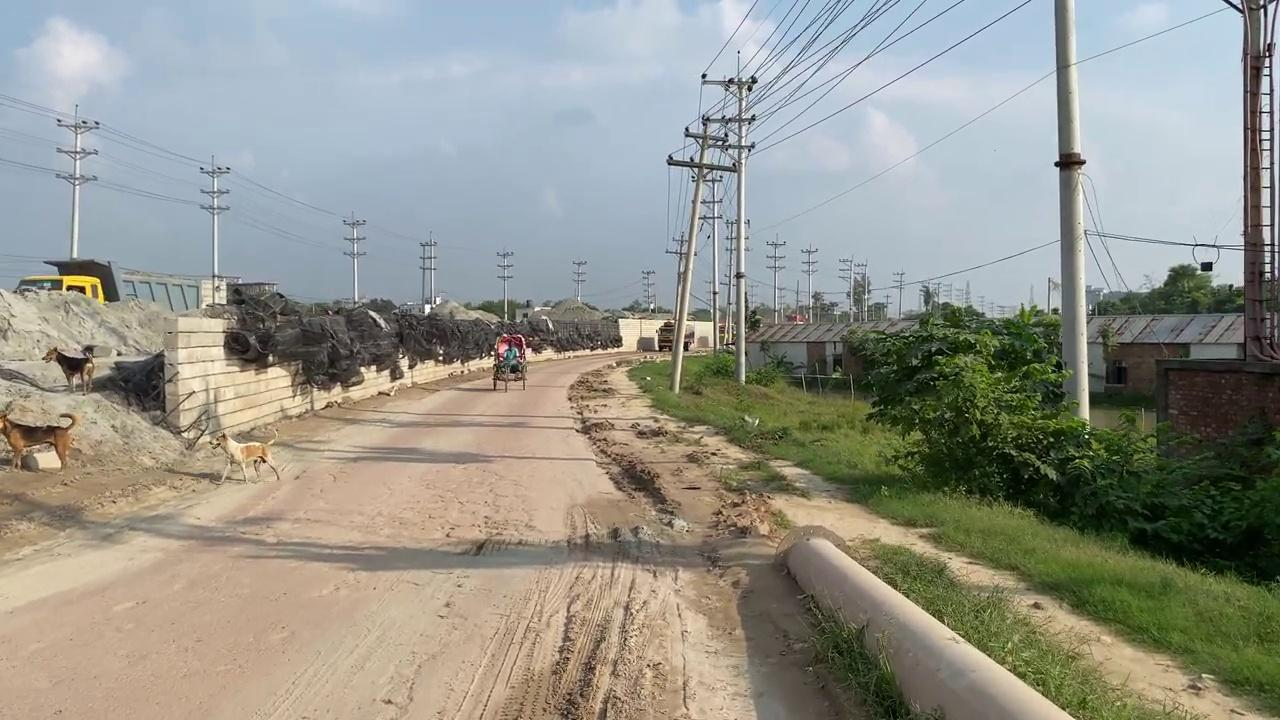Animal: (0, 409, 77, 470), (208, 428, 279, 483), (41, 344, 96, 394)
Curb: (772, 524, 1076, 718)
Fence: (163, 293, 622, 442)
Motorcycle: (490, 343, 528, 392)
Muddy road: (0, 341, 857, 718)
Pole: (1053, 0, 1090, 427), (725, 51, 756, 384)
Rickshaw: (575, 356, 1270, 718)
Tree: (12, 257, 278, 313), (12, 274, 105, 303), (656, 319, 736, 352)
